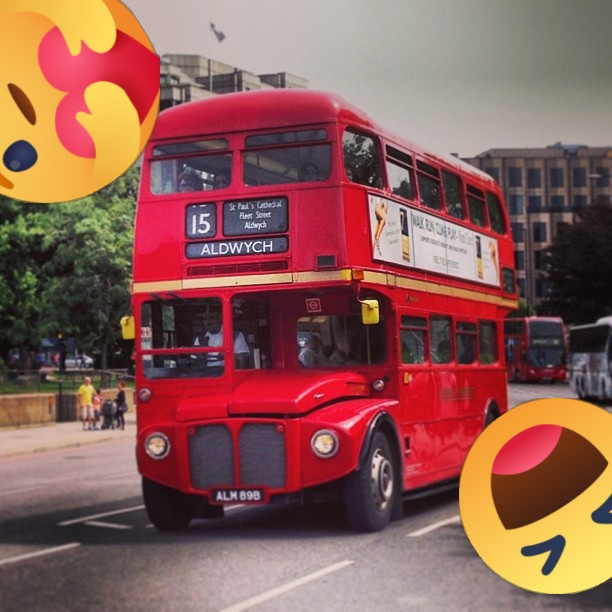care: (0, 0, 160, 203)
haha: (459, 398, 612, 594)
